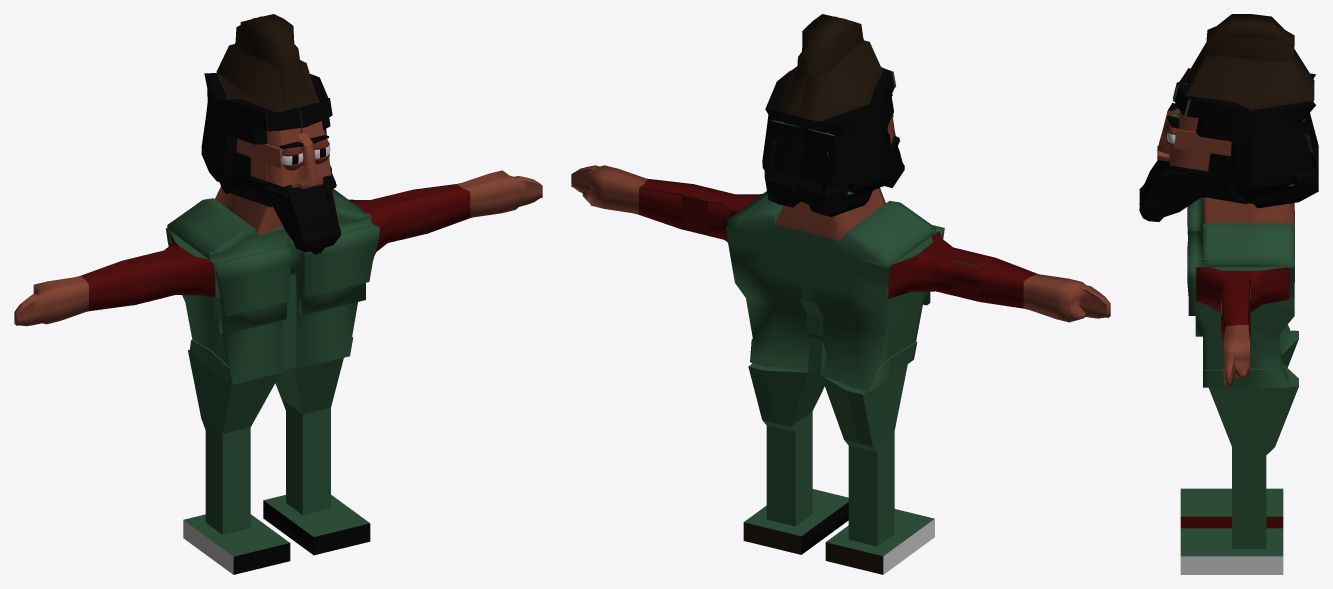
3 views of the same model, side by side, from view 1: azimuth 30°, elevation 25°; view 2: azimuth 150°, elevation 25°; view 3: azimuth 270°, elevation 25° (orthographic). The views are drawn at different scales.
Visible parts, largest first — view 1: Box002, Box001; view 2: Box002, Box001; view 3: Box001, Box002.
Boxes of the visible parts, x1,y1,x2,y2 form: Box002: (14,16,328,574); Box001: (235,14,542,555); Box002: (783,16,1110,574); Box001: (571,14,863,554); Box001: (1139,19,1318,574); Box002: (1139,14,1318,528).
Bounding box in the file's own units: 405 × 376 × 118.
